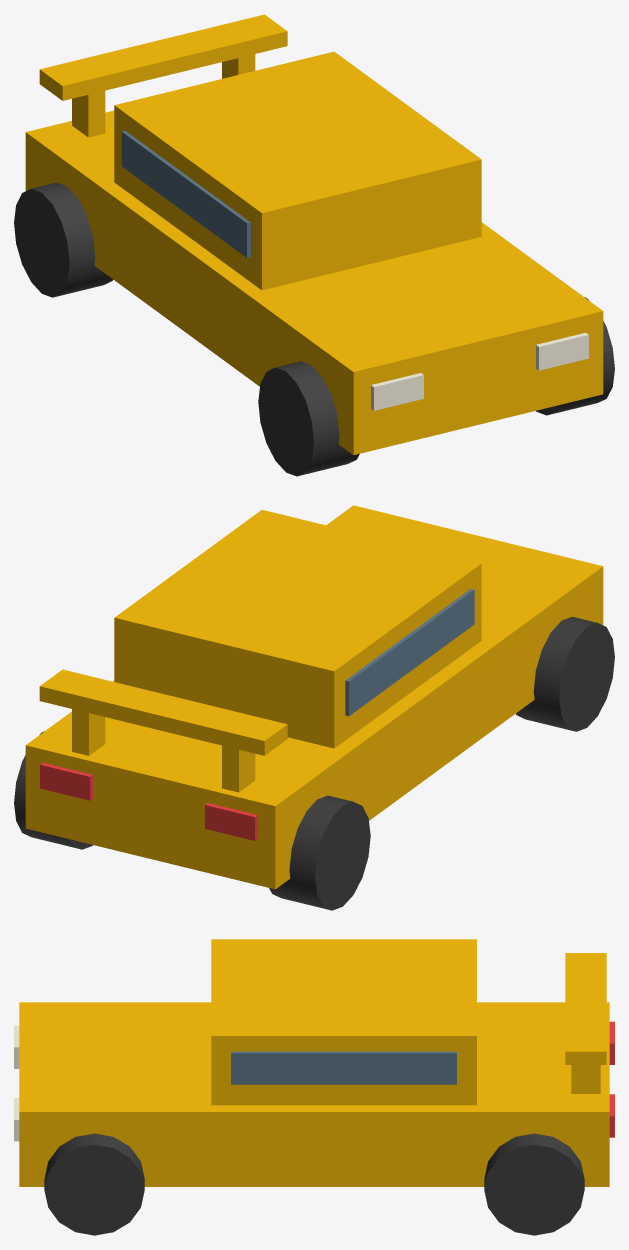
File: esportivo.glb
3 renders of one model, top to bottom at view 1: azimuth 30°, elevation 25°; view 2: azimuth 150°, elevation 25°; view 3: azimuth 270°, elevation 25°, orthographic. The views are drawn at different scales.
Parts seen in each view (by area): view 1: esportivo; view 2: esportivo; view 3: esportivo.
Part boxes in pixels (x1,y1,x2,y2): esportivo: [14, 14, 614, 476]; esportivo: [14, 505, 614, 910]; esportivo: [14, 939, 614, 1235].
Bounding box in the file's own units: 0.53 × 0.34 × 1.02.
